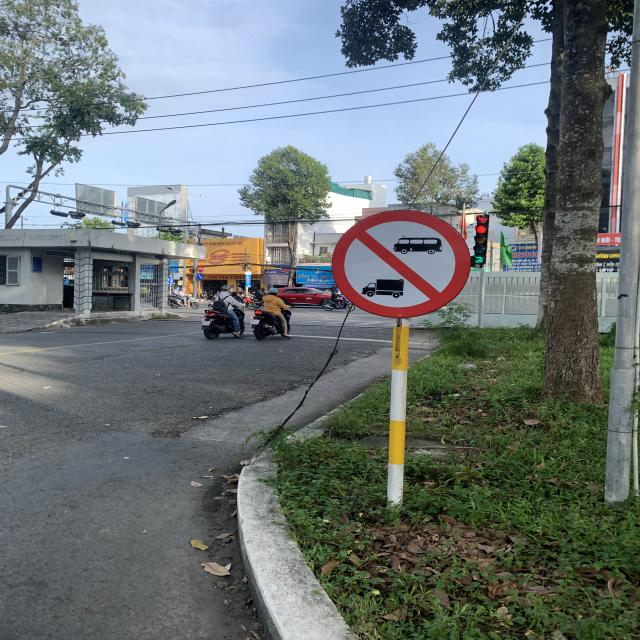Cam_XeTai_XeKhach: (331, 209, 473, 318)
